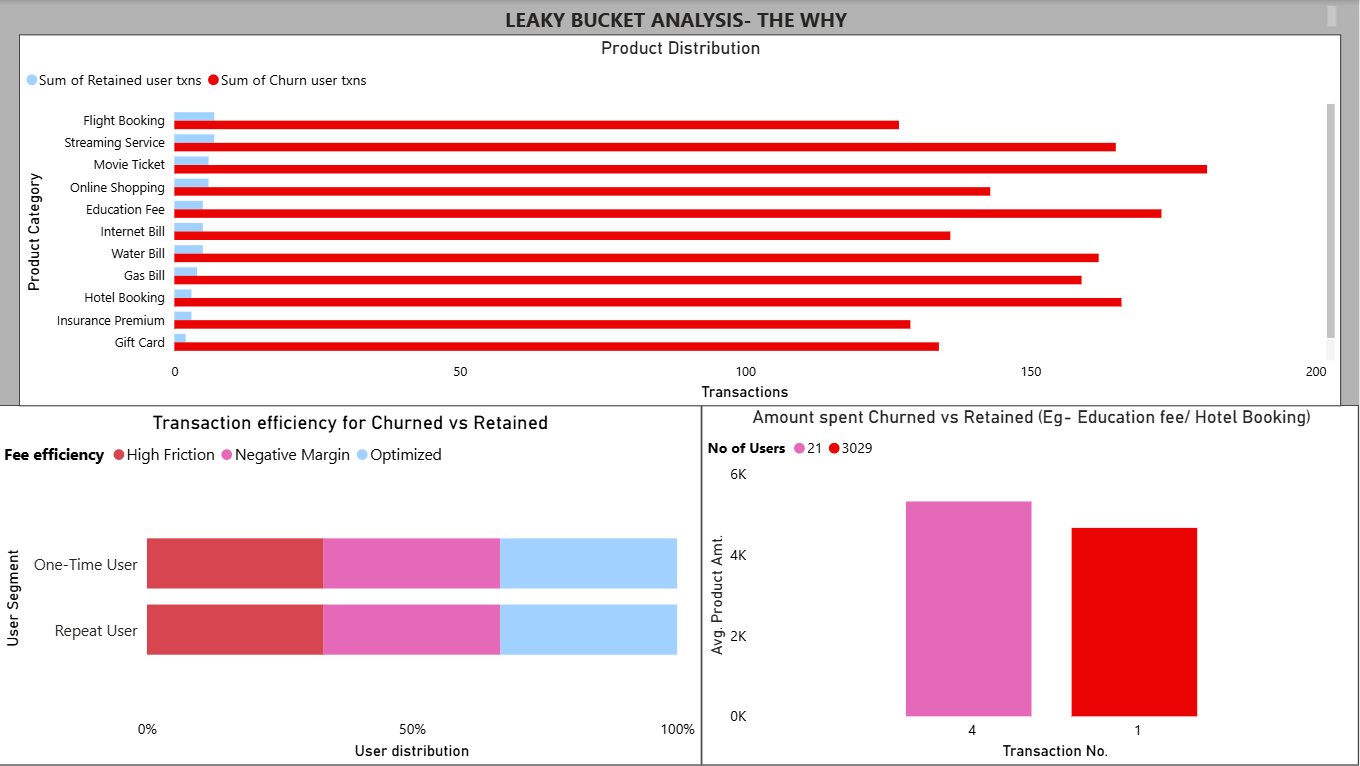

The dashboard page shown, as its layout file describes it:
{"tool":"powerbi","page":{"name":"Page 2","canvas":[1280,720],"ordinal":1},"visuals":[{"type":"hundredPercentStackedBarChart","title":"Transaction efficiency for Churned vs Retained ","fields":{"Category":["Fee Efficiency.User Type"],"Y":["CountNonNull(Fee Efficiency.Tax efficiency)"],"Series":["Fee Efficiency.Tax efficiency"]},"box":[0,381.3,661.3,338.7],"z":0},{"type":"columnChart","title":"Amount spent Churned vs Retained (Eg- Education fee/ Hotel Booking)","fields":{"Y":["Sum(Product Amount.Avg Product Amt)"],"Category":["Product Amount.User Txn No"],"Series":["Product Amount.No of Users"]},"box":[661.3,381.3,618.7,338.7],"z":1000},{"type":"clusteredBarChart","title":"Product Distribution","fields":{"Category":["Transaction Volume.Product Category"],"Y":["Sum(Transaction Volume.Retained user txns)","Sum(Transaction Volume.Churn user txns)"]},"box":[20,32,1242.7,349.3],"z":2000},{"type":"textbox","box":[20,0,1242.7,32],"z":3000}]}

Visuals, with their boxes in screenshot pixels (x1, y1, x2, y2), scaled from the page's 1280x720 canvas onto the 1360x766 screenshot:
"Transaction efficiency for Churned vs Retained " hundredPercentStackedBarChart: (0, 406, 703, 765)
"Amount spent Churned vs Retained (Eg- Education fee/ Hotel Booking)" columnChart: (703, 406, 1359, 765)
"Product Distribution" clusteredBarChart: (21, 34, 1342, 406)
textbox: (21, 0, 1342, 34)
